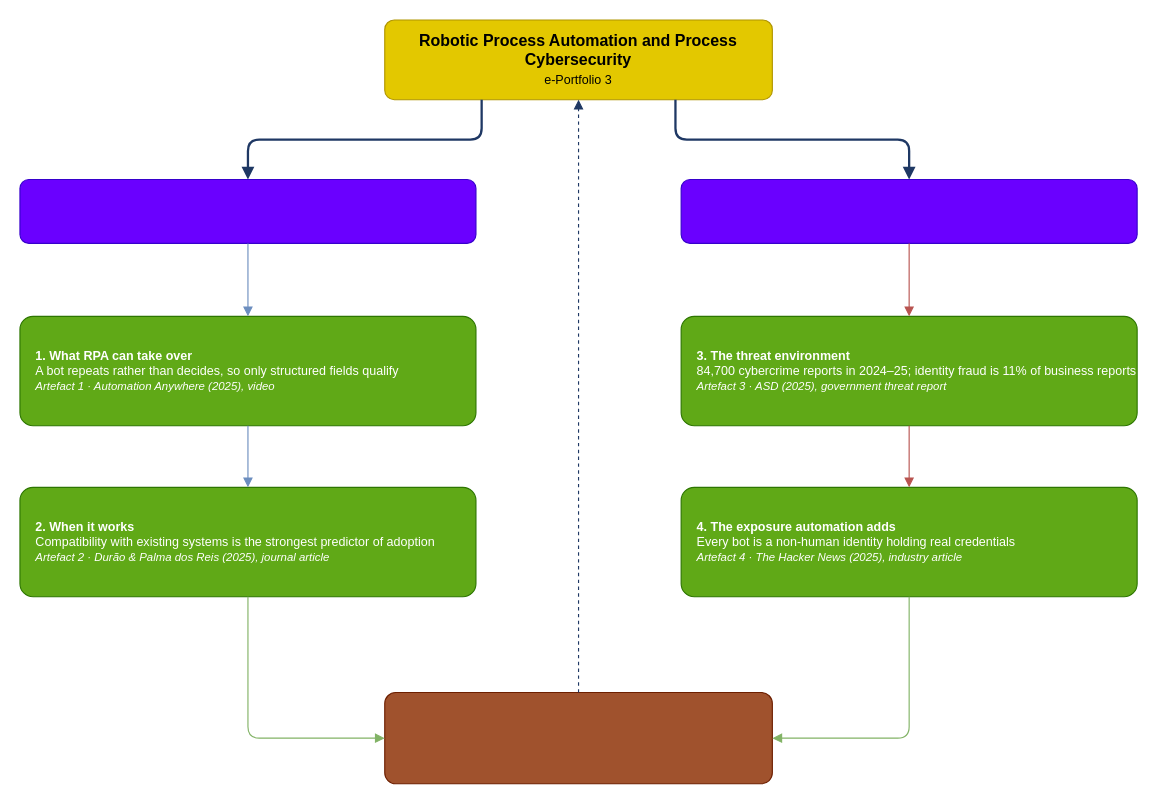
Image size: 1157x804. Some labels were removed from this diagram. Here are the shapes that lost their labels. From the top down, the box of each, then its label:
(19, 178, 476, 243): Automation: building the bot
(680, 178, 1137, 243): Security: defending the process
(384, 691, 772, 784): Governance Least privilege · secrets management · PAM · MFA on bot accounts
